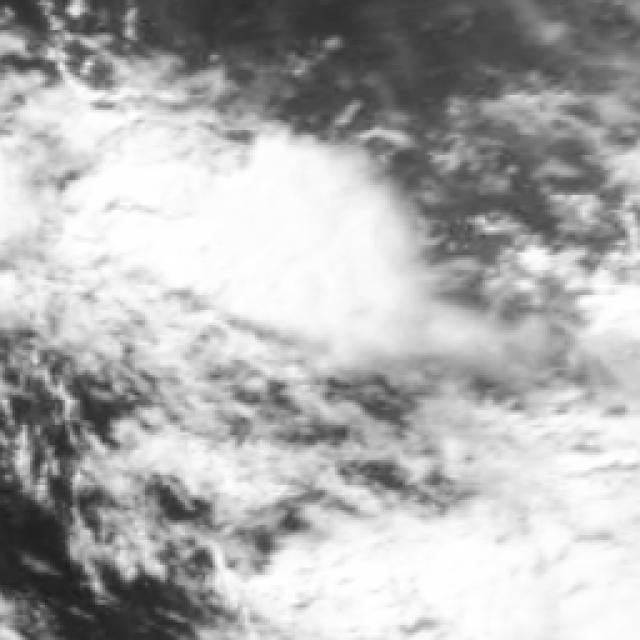CB: (162, 158, 364, 321), (53, 144, 253, 302), (422, 505, 640, 640), (467, 387, 640, 521)
